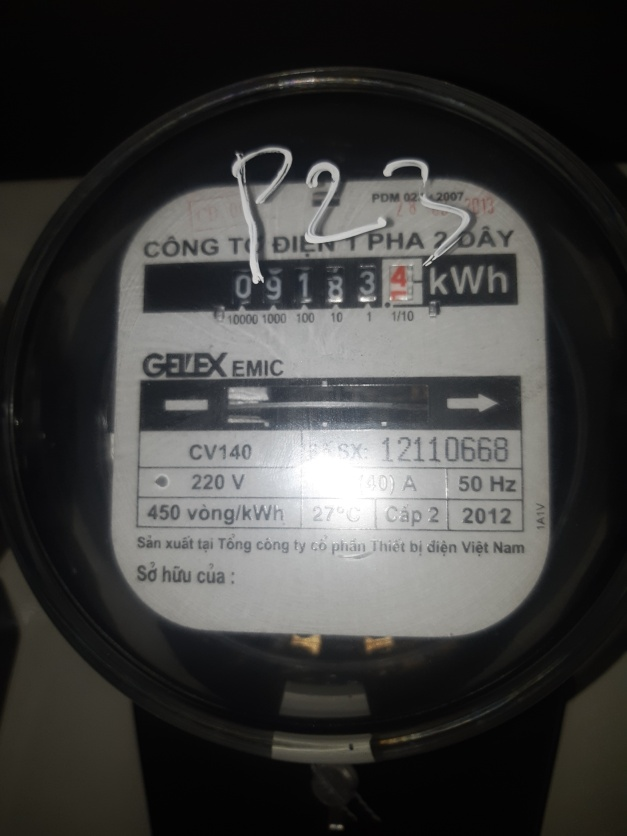counter: (141, 257, 526, 310)
electricity_meter: (13, 71, 625, 737)
